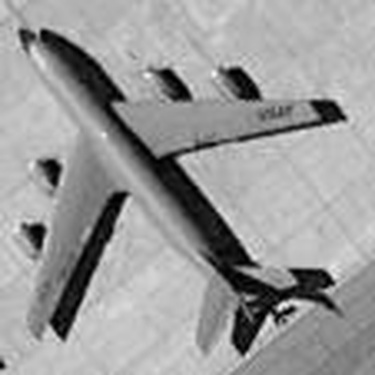airplane: (10, 9, 340, 363)
